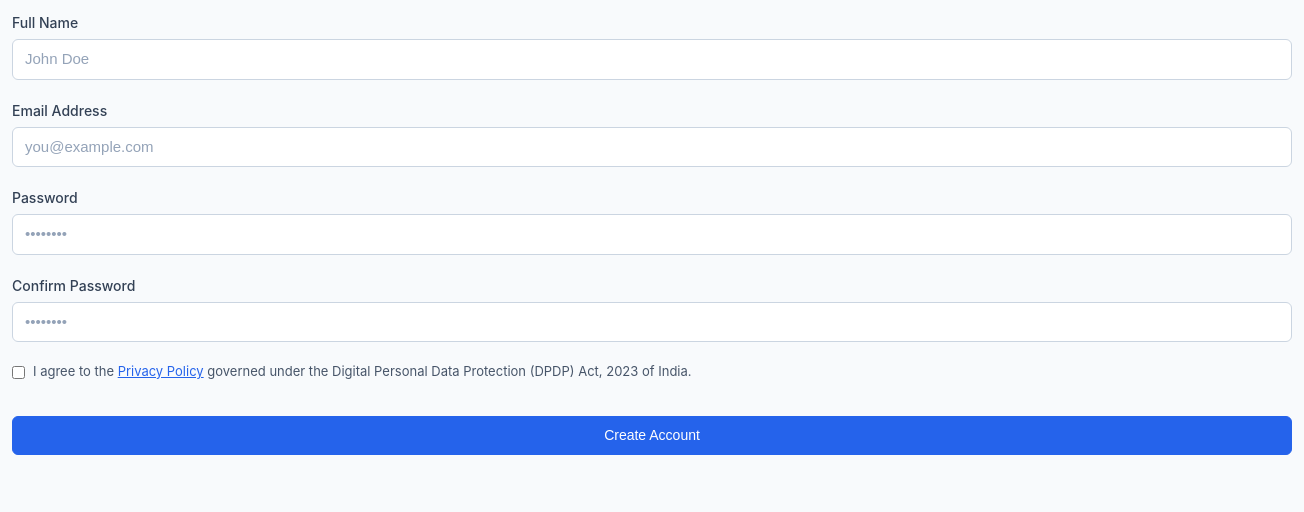
Test: RegisterForm › validates password mismatch
Type "John" into the field labelled "Full Name". click: point(652, 59)
box: [12,39,1292,80]
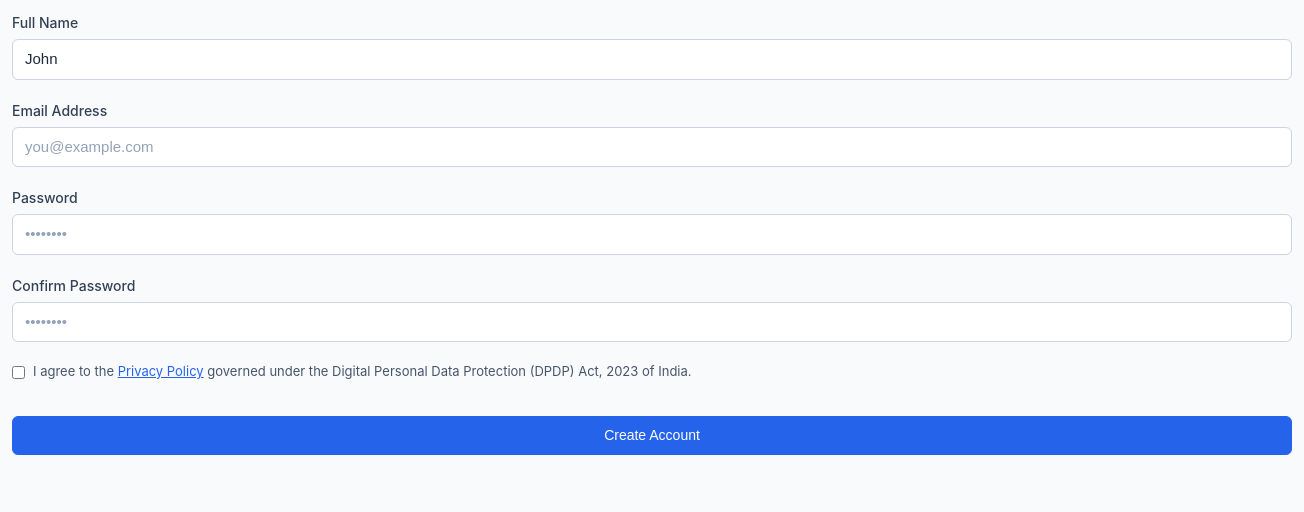
Type "john@test.com" into the field labelled "Email Address". click: point(652, 147)
box: [12,126,1292,167]
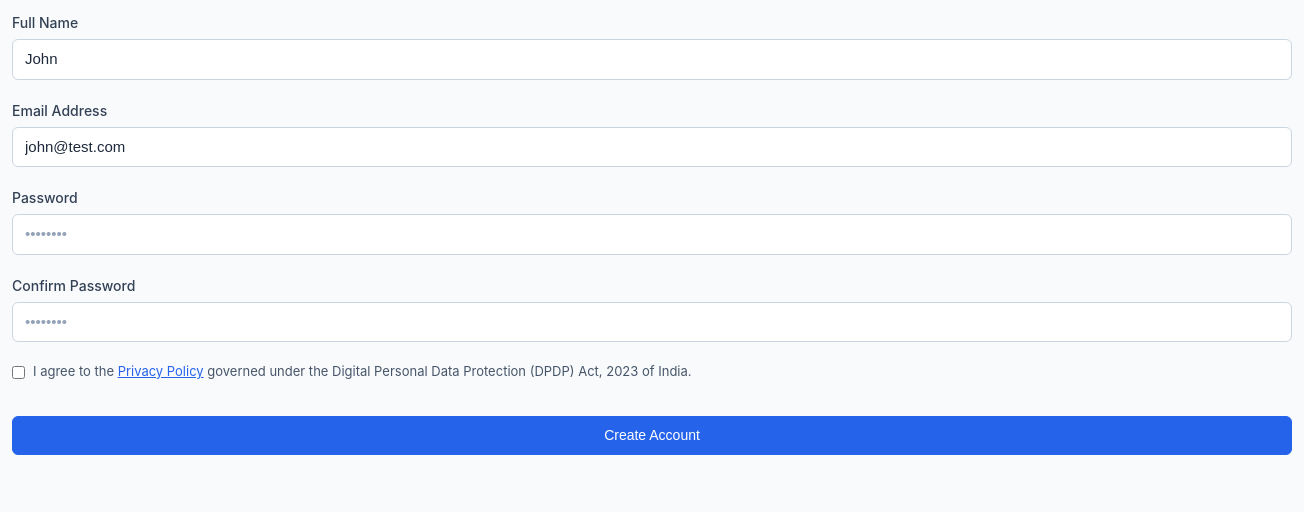
Type "pass123" into the password field labelled "Password". click: point(652, 234)
box: [12,214,1292,254]
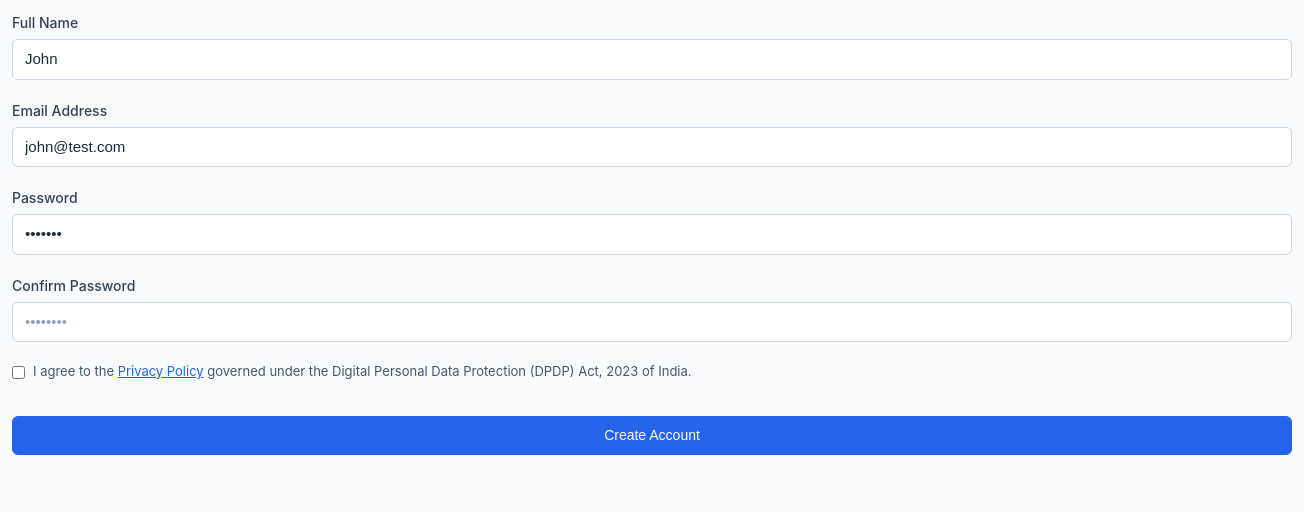
Type "pass456" into the password field labelled "Confirm Password". click: point(652, 322)
box: [12,302,1292,342]
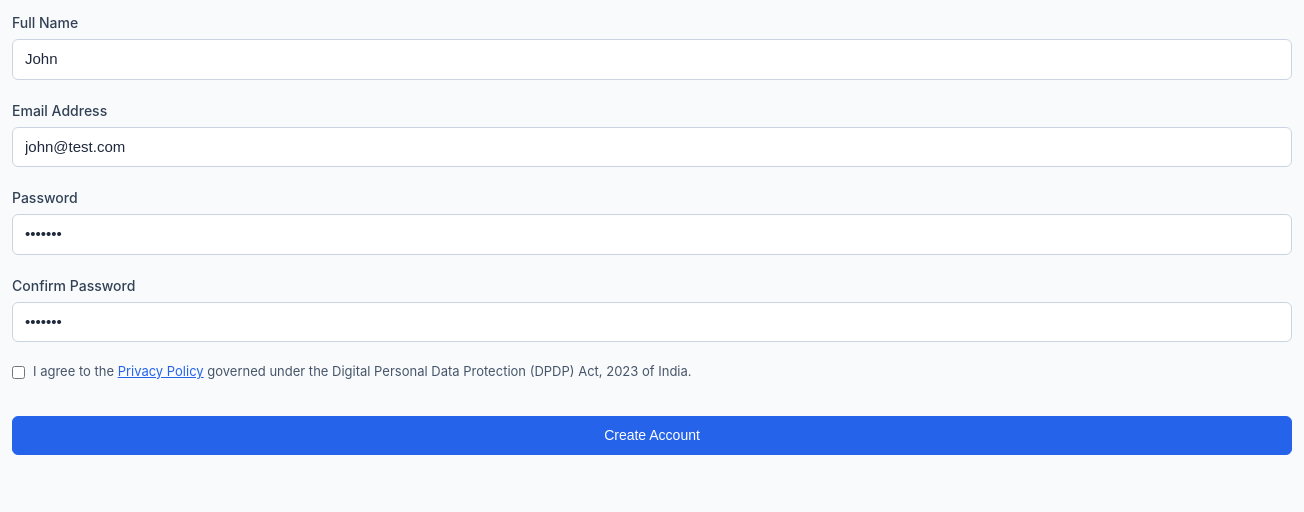
Click the button "Create Account". click: point(652, 436)
box: [12,416,1292,455]
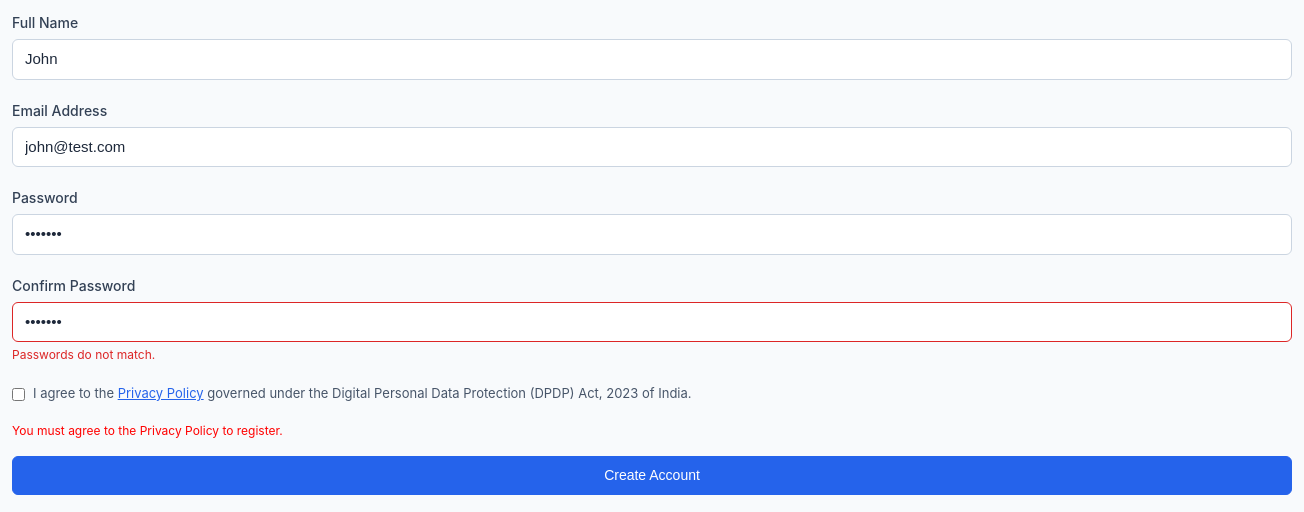
Expected: the text "Passwords do not match." is shown, [12,347,155,362]
